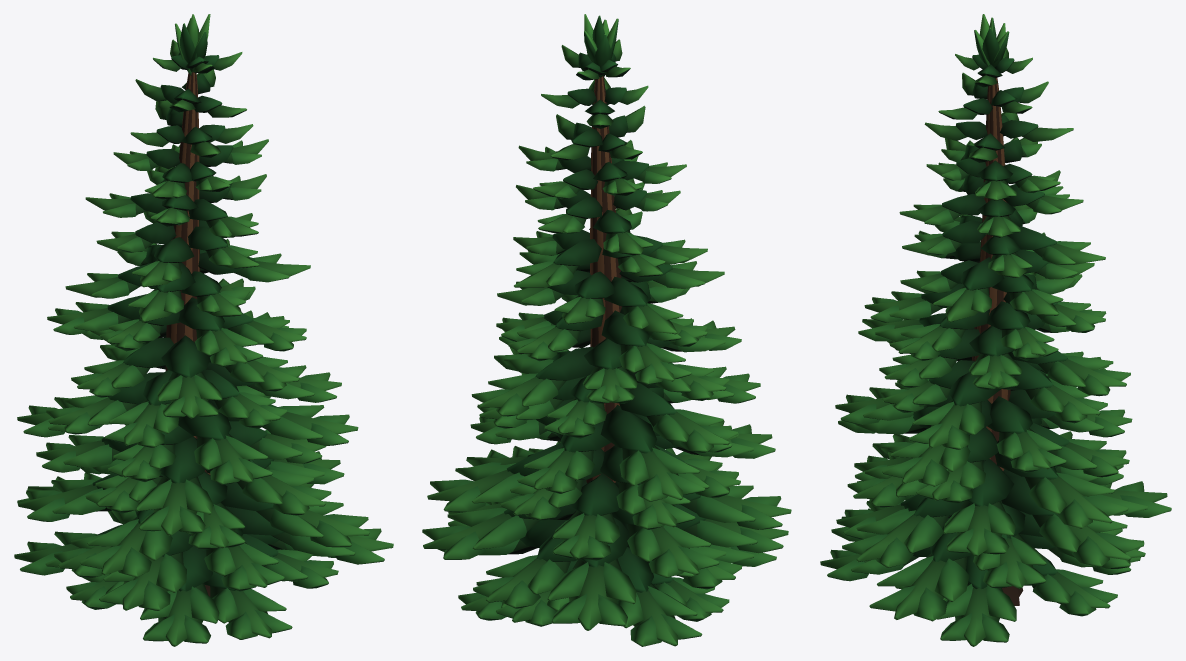
The model's file is tree_spruce_slender.glb.
3 views of the same model, side by side, from view 1: azimuth 30°, elevation 25°; view 2: azimuth 150°, elevation 25°; view 3: azimuth 270°, elevation 25° (orthographic). The views are drawn at different scales.
Parts seen in each view (by area): view 1: tree_spruce_needles, tree_spruce_trunk; view 2: tree_spruce_needles, tree_spruce_trunk; view 3: tree_spruce_needles, tree_spruce_trunk.
Boxes of the visible parts, box(x1,y1,x2,y2) form: tree_spruce_needles: box(14, 14, 393, 646); tree_spruce_trunk: box(165, 72, 210, 596); tree_spruce_needles: box(422, 14, 791, 646); tree_spruce_trunk: box(586, 76, 621, 483); tree_spruce_needles: box(820, 14, 1171, 646); tree_spruce_trunk: box(972, 78, 1023, 605).
Size of the model in its own units: 5.58 by 10.02 by 5.55.
